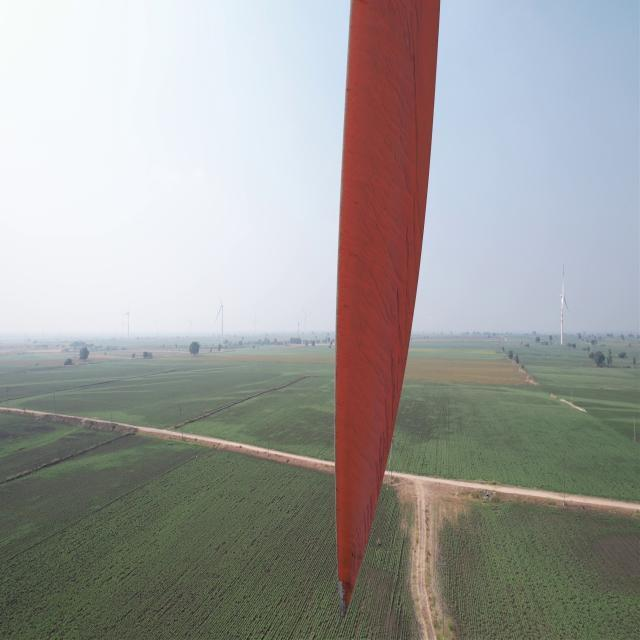Dirt: (334, 0, 427, 568)
